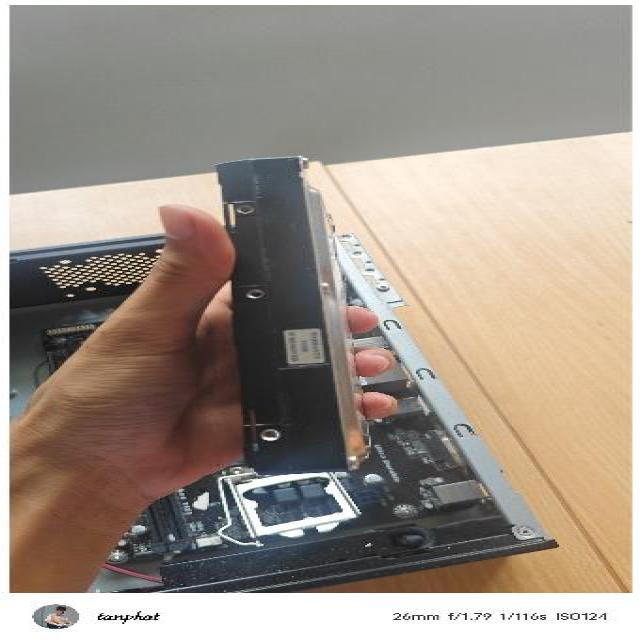DISK: (210, 153, 385, 476)
